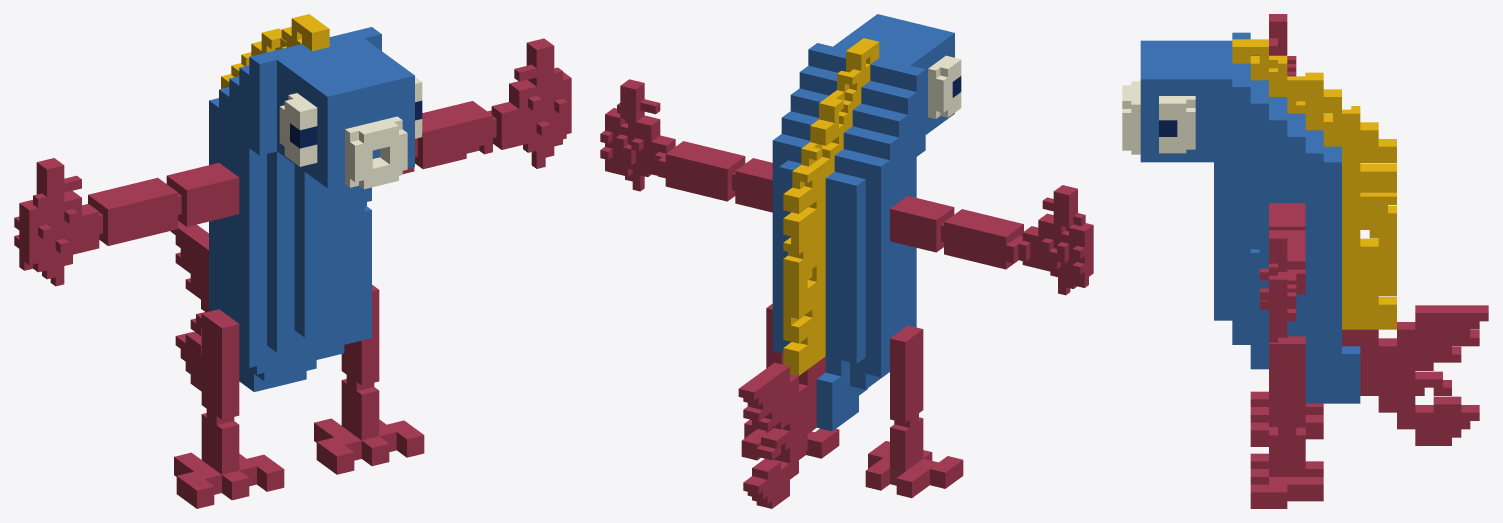
Rendered from Fish.obj.
3 views of the same model, side by side, from view 1: azimuth 30°, elevation 25°; view 2: azimuth 150°, elevation 25°; view 3: azimuth 270°, elevation 25° (orthographic). The views are drawn at different scales.
Bounding box in the file's own units: 6.2 × 5 × 4.
1 material, 1 textured.
